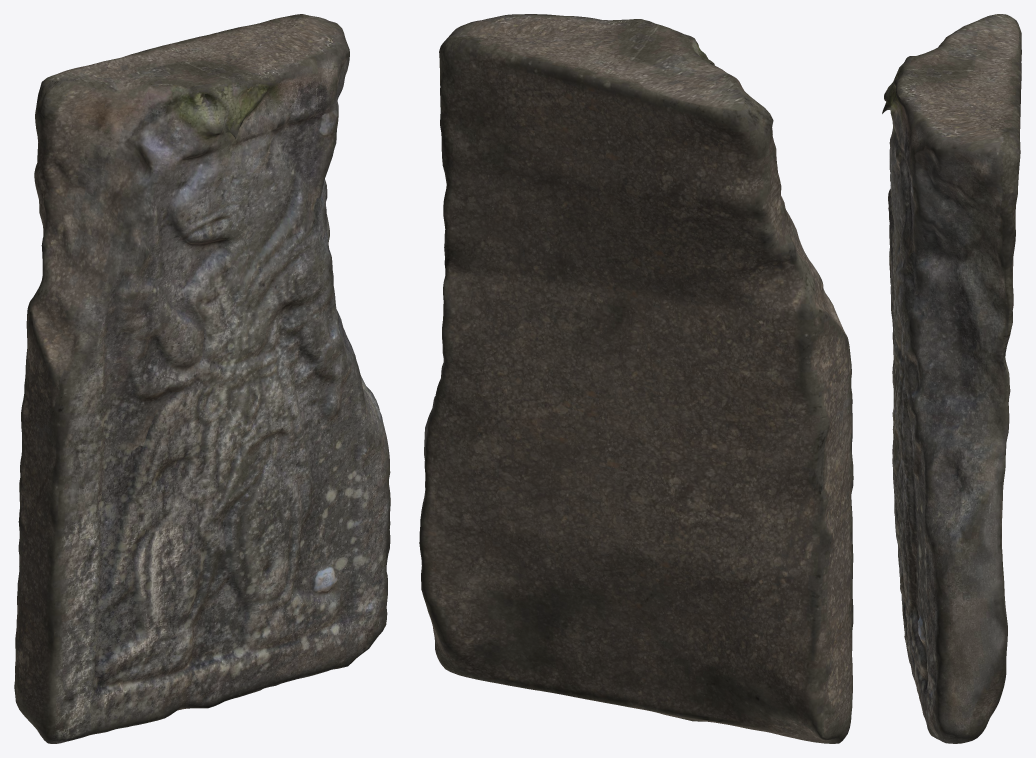
3 views of the same model, side by side, from view 1: azimuth 30°, elevation 25°; view 2: azimuth 150°, elevation 25°; view 3: azimuth 270°, elevation 25° (orthographic). The views are drawn at different scales.
Visible parts, largest first — view 1: Object_2; view 2: Object_2; view 3: Object_2.
Boxes of the visible parts, x1,y1,x2,y2 form: Object_2: (14,14,390,743); Object_2: (419,14,853,743); Object_2: (882,14,1021,743).
Size of the model in its own units: 0.6024 by 0.9823 by 0.2053.
Materials: 1 (1 with a texture image).
